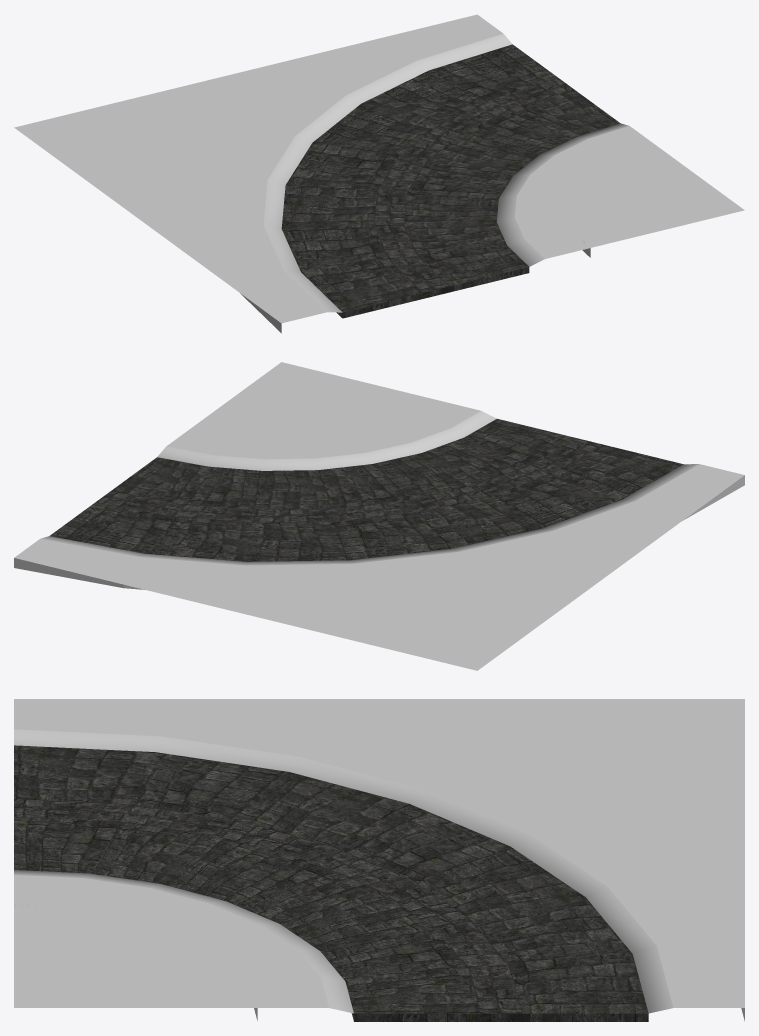
File: alley_01_elbow_90.DAE
3 views of the same model, one above another, from view 1: azimuth 30°, elevation 25°; view 2: azimuth 150°, elevation 25°; view 3: azimuth 270°, elevation 25° (orthographic). The views are drawn at different scales.
Visible parts, largest first — view 1: Box022, Box021; view 2: Box022, Box021; view 3: Box022, Box021.
Boxes of the visible parts, box(x1,y1,x2,y2) form: Box022: box(14, 14, 744, 333); Box021: box(281, 44, 619, 318); Box022: box(14, 362, 744, 670); Box021: box(50, 418, 683, 561); Box022: box(14, 699, 744, 1021); Box021: box(14, 745, 648, 1021).
Bounding box in the file's own units: 12 × 0.25 × 12.
